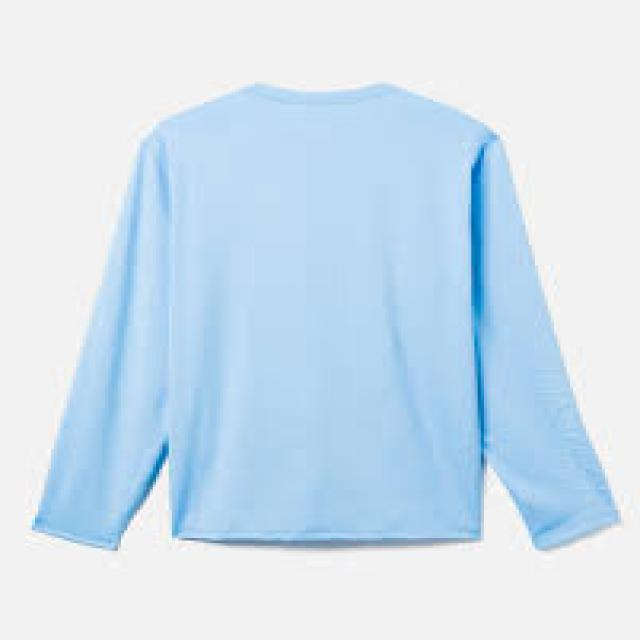plain: (43, 62, 618, 599)
